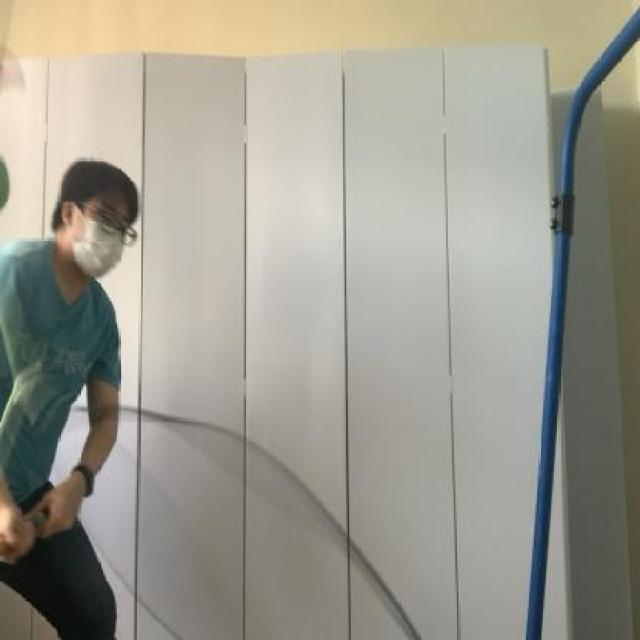baseball: (0, 149, 15, 213)
